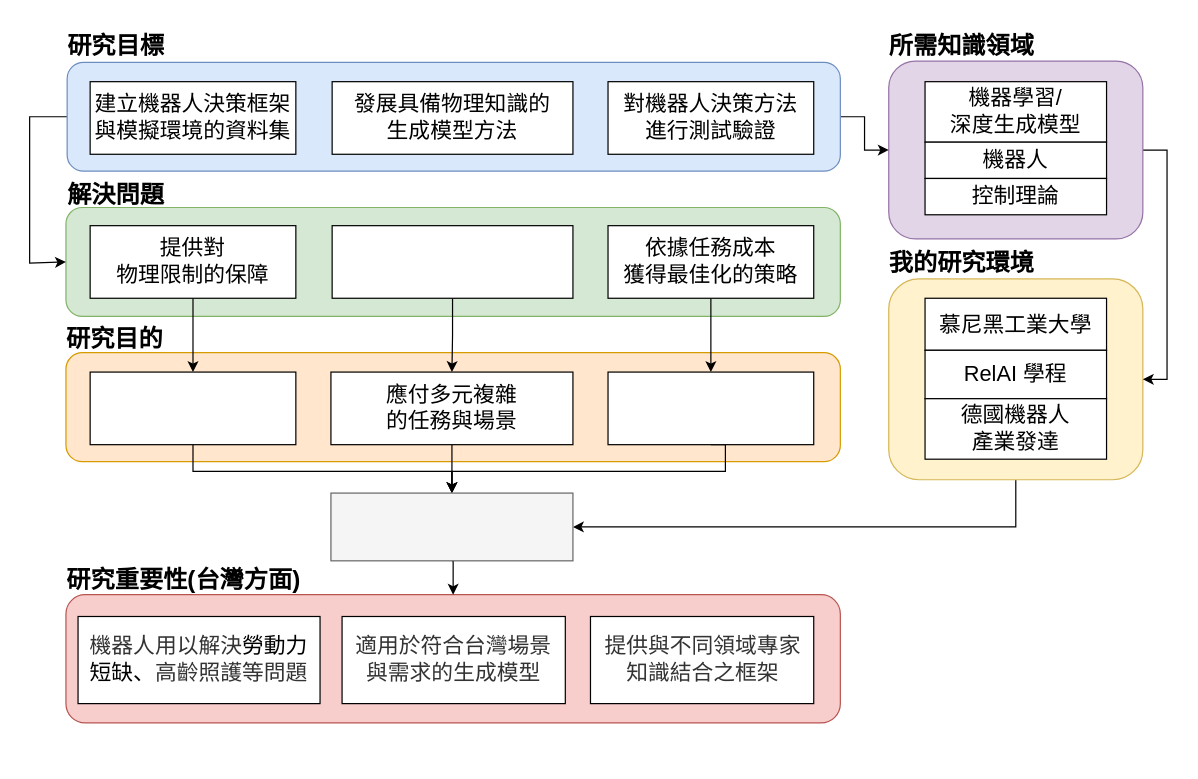
This 1198x779 diagram has some shape labels left out. Here are the shapes that lost their labels. From the top down, the box of each, then its label:
(331, 224, 573, 298): 在訓練資料外的場景 仍能生成有意義的動作
(89, 371, 296, 445): 安全與環境互動
(607, 371, 814, 445): 考慮成本提供服務 降低應用普及的門檻
(330, 492, 573, 561): 機器人依據任務需求 與環境進行自主決策
